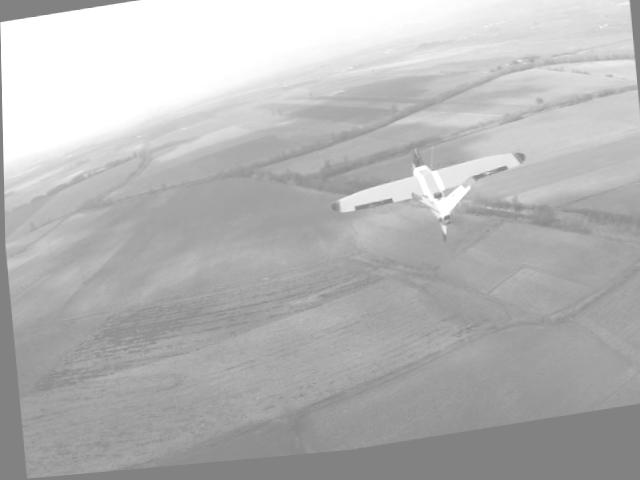hedef: (298, 114, 555, 279)
